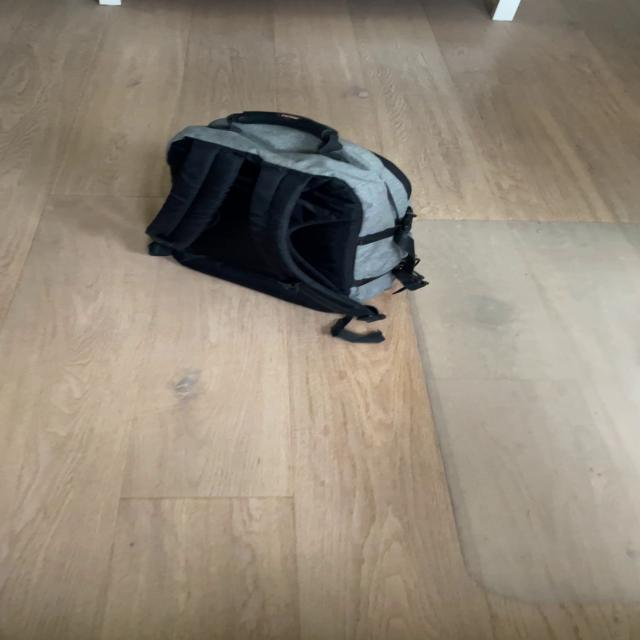backpack: (133, 104, 447, 320)
